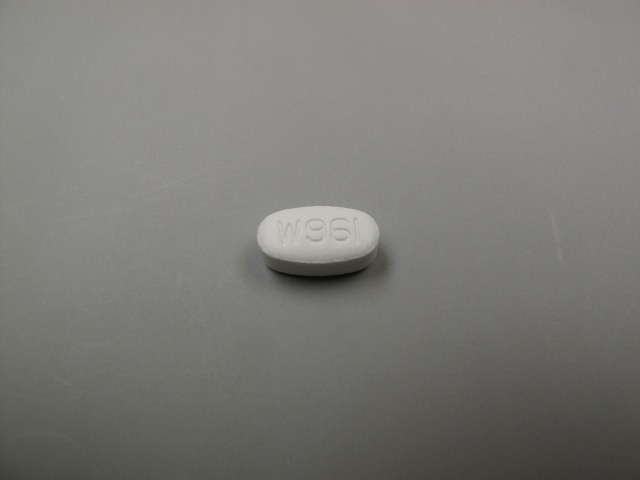1: (351, 216, 363, 249)
6: (328, 215, 351, 244)
9: (305, 215, 328, 247)
W: (275, 216, 303, 250)
